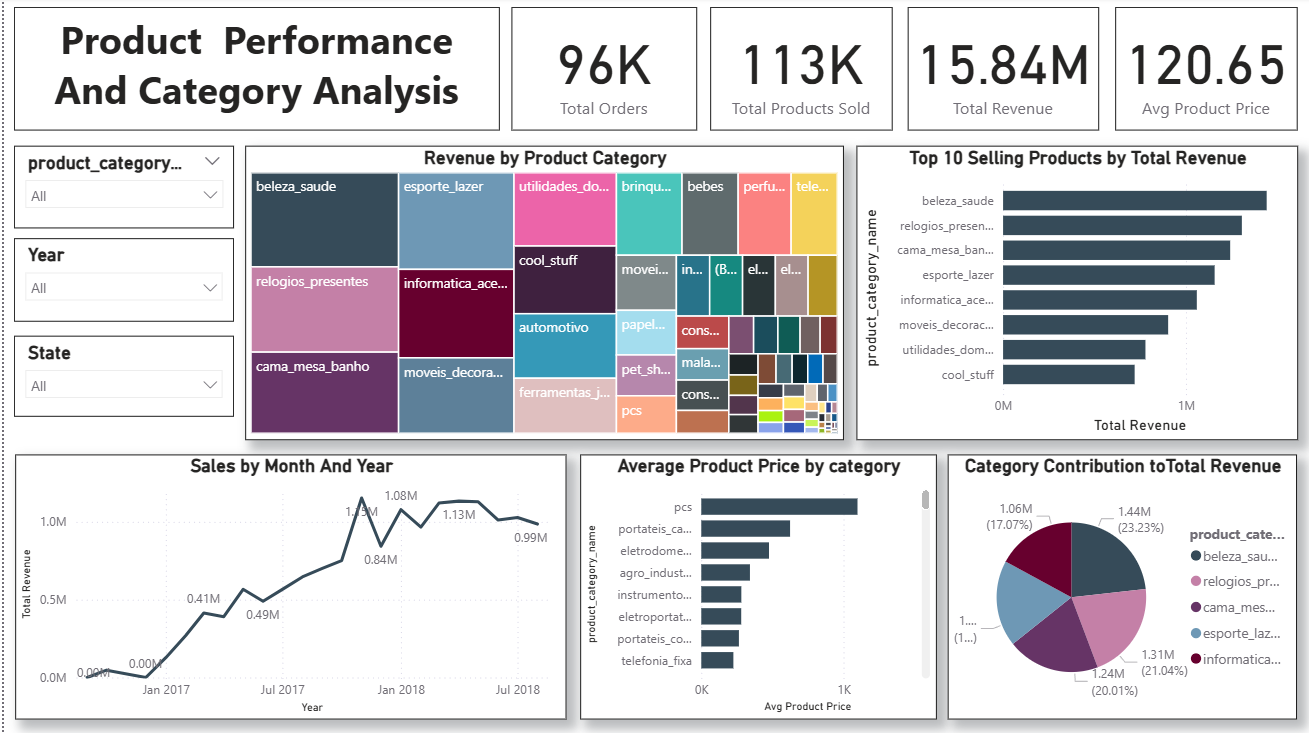

What the dashboard file says about the page in this screenshot:
{"tool":"powerbi","page":{"name":"product Performance And Category Analysis","canvas":[1280,720],"ordinal":2},"visuals":[{"type":"textbox","box":[10.3,10.3,474.9,120.9],"z":0},{"type":"card","fields":{"Values":["olist_orders_dataset.Total Orders"]},"box":[497.1,10.3,181.4,120.9],"z":1000},{"type":"card","fields":{"Values":["olist_customers_dataset.Avg Product Price"]},"box":[1087.1,10.3,178.5,120.9],"z":2000},{"type":"card","fields":{"Values":["olist_order_items_dataset.Total Revenue"]},"box":[883.5,10.3,187.3,120.9],"z":3000},{"type":"card","fields":{"Values":["olist_customers_dataset.Total Products Sold"]},"box":[690.3,10.3,178.5,120.9],"z":4000},{"type":"treemap","title":"Revenue by Product Category","fields":{"Group":["olist_products_dataset.product_category_name"],"Values":["olist_order_items_dataset.Total Revenue"]},"box":[236,146,585.6,287.6],"z":5000},{"type":"lineChart","title":"Sales by Month And Year","fields":{"Category":["olist_orders_dataset.order_date.Variation.Date Hierarchy.Year","olist_orders_dataset.order_date.Variation.Date Hierarchy.Month"],"Y":["olist_order_items_dataset.Total Revenue"]},"box":[11,447.3,539.3,259.3],"z":6000},{"type":"barChart","title":"Top 10 Selling Products by Total Revenue","fields":{"Category":["olist_products_dataset.product_category_name"],"Y":["olist_order_items_dataset.Total Revenue"]},"box":[833.4,146,432.2,287.6],"z":7000},{"type":"clusteredBarChart","title":"Average Product Price by category","fields":{"Category":["olist_products_dataset.product_category_name"],"Y":["olist_customers_dataset.Avg Product Price"]},"box":[563.7,447.6,348.5,259.2],"z":8000},{"type":"slicer","fields":{"Values":["olist_products_dataset.product_category_name"]},"box":[10.3,146,215.3,81.1],"z":9000},{"type":"slicer","fields":{"Values":["olist_orders_dataset.Year"]},"box":[9.9,236,215,81.6],"z":10000},{"type":"slicer","fields":{"Values":["olist_customers_dataset.customer_state"]},"box":[9.9,331.2,215,79.1],"z":11000},{"type":"pieChart","title":" Category Contribution toTotal Revenue ","fields":{"Category":["olist_products_dataset.product_category_name"],"Y":["olist_order_items_dataset.Total Revenue"]},"box":[923.5,447.3,341.7,259.3],"z":12000}]}

Visuals, with their boxes in screenshot pixels (x1, y1, x2, y2), scaled from the page's 1280x720 canvas onto the 1309x733 screenshot:
textbox: [11,10,496,134]
card - olist_orders_dataset.Total Orders: [508,10,694,134]
card - olist_customers_dataset.Avg Product Price: [1112,10,1294,134]
card - olist_order_items_dataset.Total Revenue: [904,10,1095,134]
card - olist_customers_dataset.Total Products Sold: [706,10,888,134]
"Revenue by Product Category" treemap: [241,149,840,441]
"Sales by Month And Year" lineChart: [11,455,563,719]
"Top 10 Selling Products by Total Revenue" barChart: [852,149,1294,441]
"Average Product Price by category" clusteredBarChart: [576,456,933,720]
slicer - olist_products_dataset.product_category_name: [11,149,231,231]
slicer - olist_orders_dataset.Year: [10,240,230,323]
slicer - olist_customers_dataset.customer_state: [10,337,230,418]
" Category Contribution toTotal Revenue " pieChart: [944,455,1294,719]
